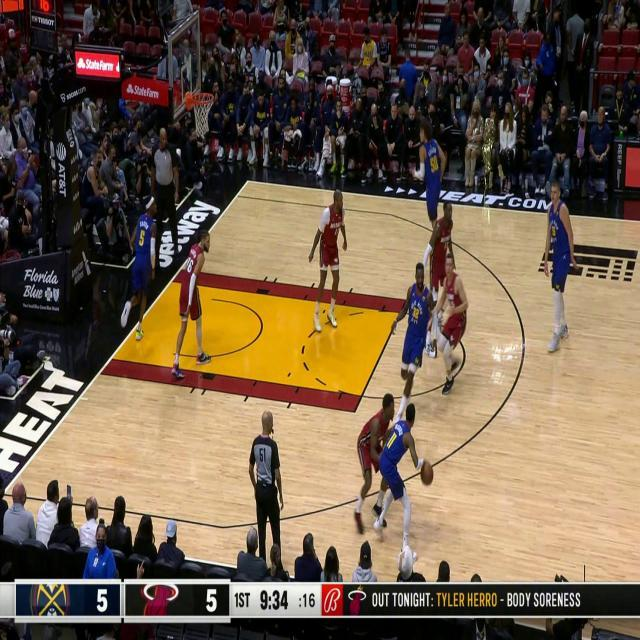rim: (420, 461, 434, 486)
